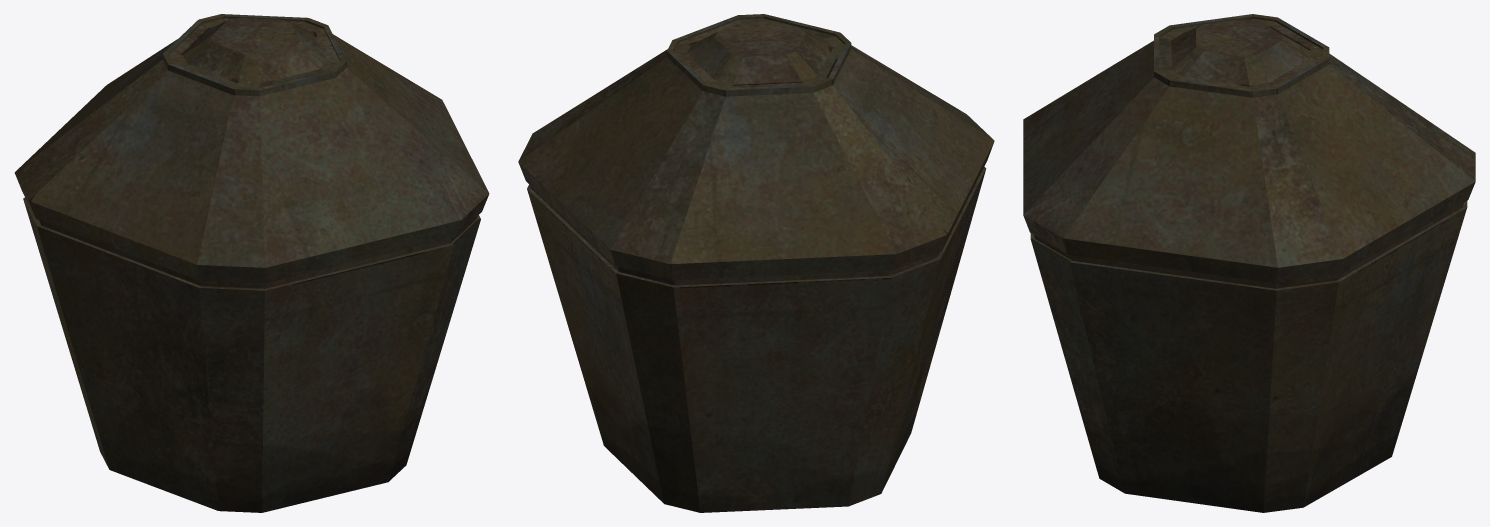
File: Depot.glb
The picture shows the model from 3 angles, left to right: view 1: azimuth 30°, elevation 25°; view 2: azimuth 150°, elevation 25°; view 3: azimuth 270°, elevation 25°; orthographic projection.
Parts seen in each view (by area): view 1: Depot; view 2: Depot; view 3: Depot.
Part boxes in pixels (<box>): Depot: <box>14,14,489,512</box>; Depot: <box>518,14,994,512</box>; Depot: <box>1023,14,1475,512</box>.
Bounding box in the file's own units: 4.78 × 4.79 × 4.54.
Materials: 1 (1 with a texture image).
